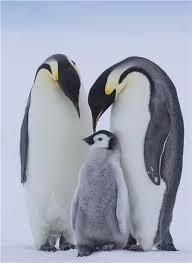emporer: (73, 47, 188, 263), (6, 44, 107, 260)
